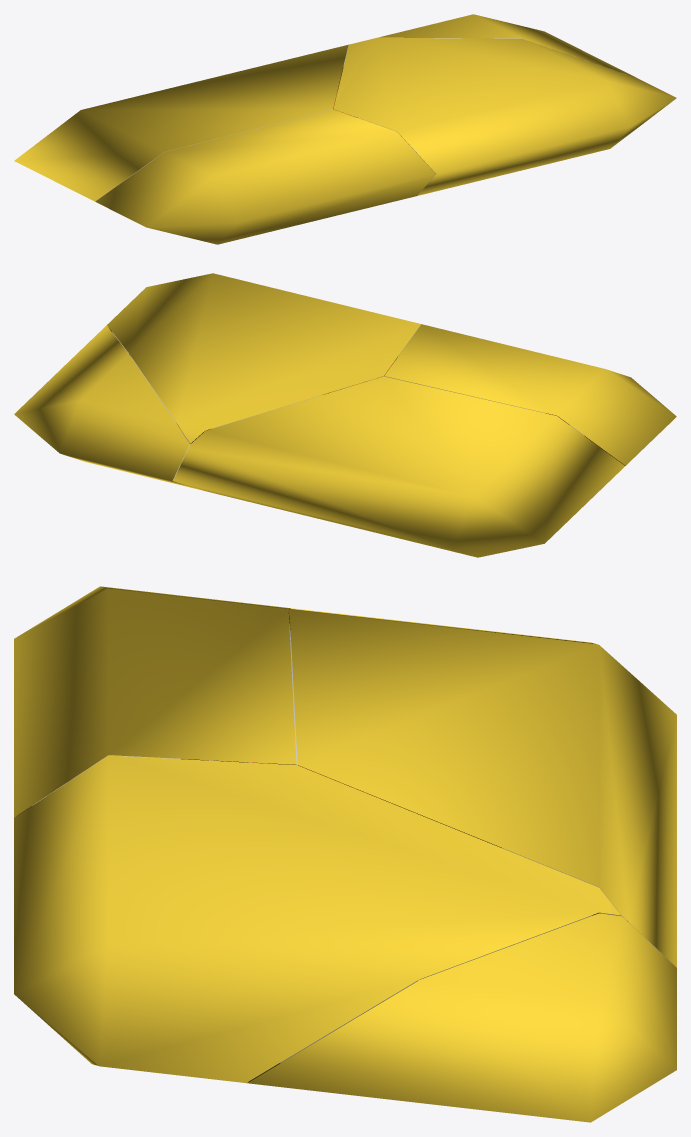
Rendered from Goi_giuong_DEST.fbx.
The picture shows the model from 3 angles, top to bottom: view 1: azimuth 30°, elevation 25°; view 2: azimuth 150°, elevation 25°; view 3: azimuth 270°, elevation 25°; orthographic projection. The views are drawn at different scales.
Parts seen in each view (by area): view 1: model:bedSingle:pillow_cell.002, model:bedSingle:pillow_cell.001, model:bedSingle:pillow_cell, model:bedSingle:pillow_cell.003; view 2: model:bedSingle:pillow_cell, model:bedSingle:pillow_cell.002, model:bedSingle:pillow_cell.001, model:bedSingle:pillow_cell.003; view 3: model:bedSingle:pillow_cell.002, model:bedSingle:pillow_cell, model:bedSingle:pillow_cell.003, model:bedSingle:pillow_cell.001.
Part boxes in pixels (bbox=[...]): model:bedSingle:pillow_cell.002: bbox=[333, 38, 676, 195]; model:bedSingle:pillow_cell.001: bbox=[95, 109, 435, 244]; model:bedSingle:pillow_cell: bbox=[14, 44, 348, 201]; model:bedSingle:pillow_cell.003: bbox=[377, 14, 636, 77]; model:bedSingle:pillow_cell: bbox=[107, 325, 624, 557]; model:bedSingle:pillow_cell.002: bbox=[107, 273, 421, 444]; model:bedSingle:pillow_cell.001: bbox=[384, 324, 676, 465]; model:bedSingle:pillow_cell.003: bbox=[14, 325, 206, 491]; model:bedSingle:pillow_cell.002: bbox=[14, 755, 621, 1082]; model:bedSingle:pillow_cell: bbox=[246, 608, 676, 1083]; model:bedSingle:pillow_cell.003: bbox=[247, 913, 676, 1122]; model:bedSingle:pillow_cell.001: bbox=[14, 586, 297, 817].
Bounding box in the file's own units: 3.08 × 0.5282 × 1.8.
